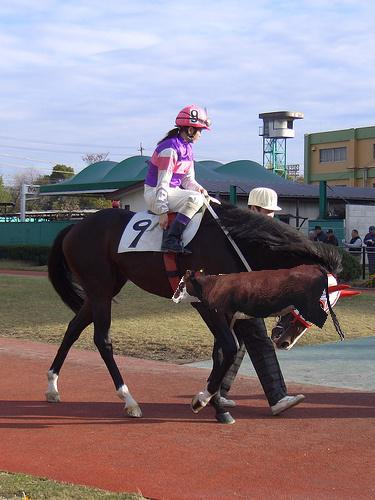tampered: (172, 265, 345, 341)
